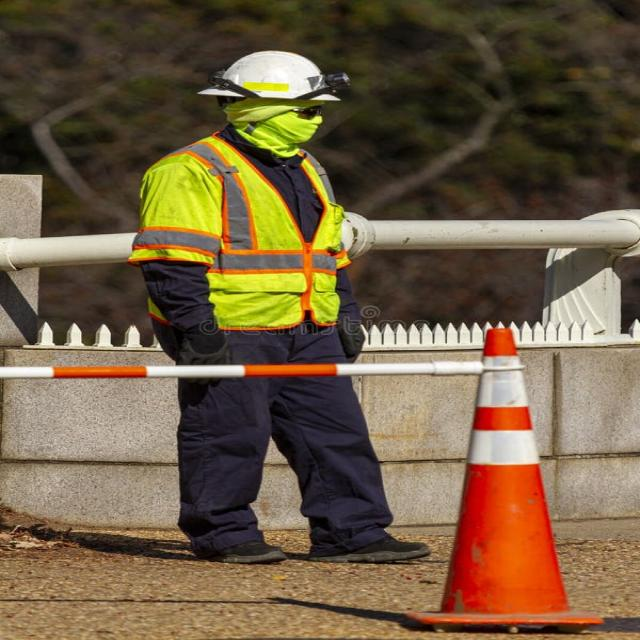hard-hat: (184, 40, 366, 104)
jacket: (126, 131, 372, 331)
person: (120, 43, 444, 569)
